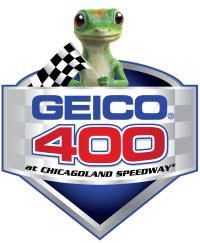Geico: (31, 92, 170, 119)
